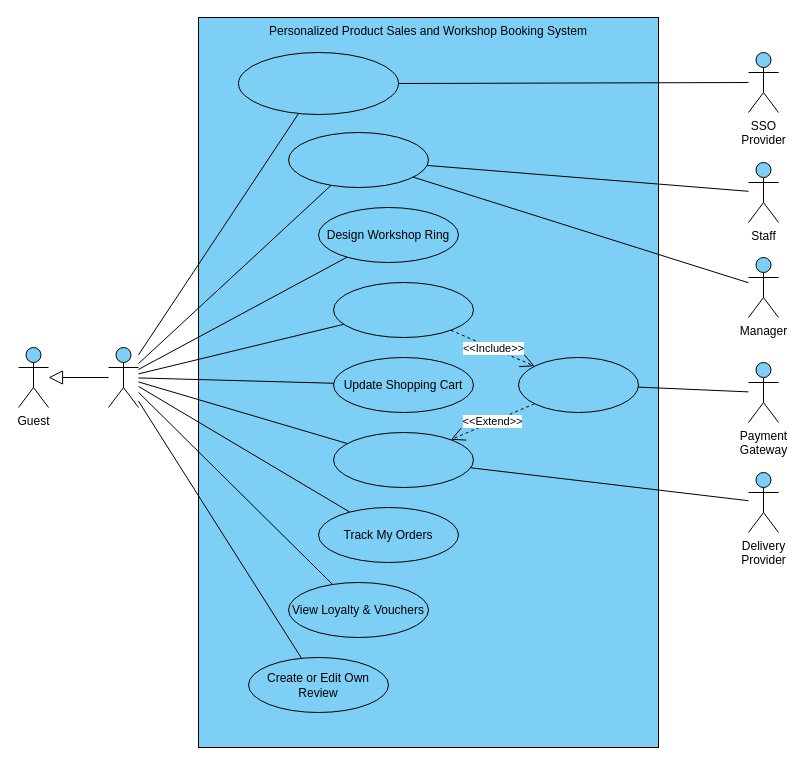
The diagram is 804 pixels wide and 765 high, and some of its shapes have lost their labels. Each missing label, with the centre of its shape:
Chat with Staff Consultant: [358,160]
Checkout Retail Order: [403,460]
Member: [123,377]
Pay Online: [578,384]
Request Custom Ring: [403,310]
Update Profile, Password & Addresses: [318,83]
